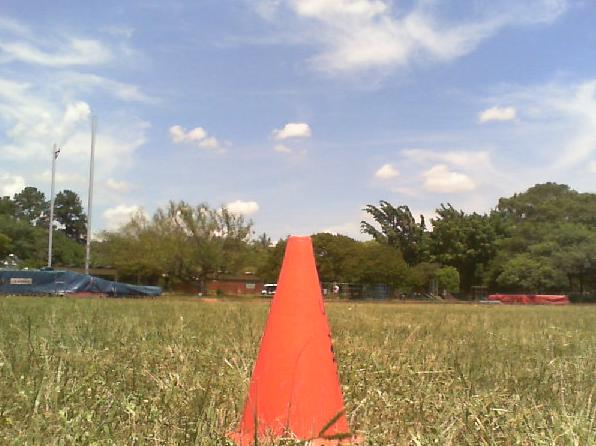0 cone: (225, 236, 366, 446)
